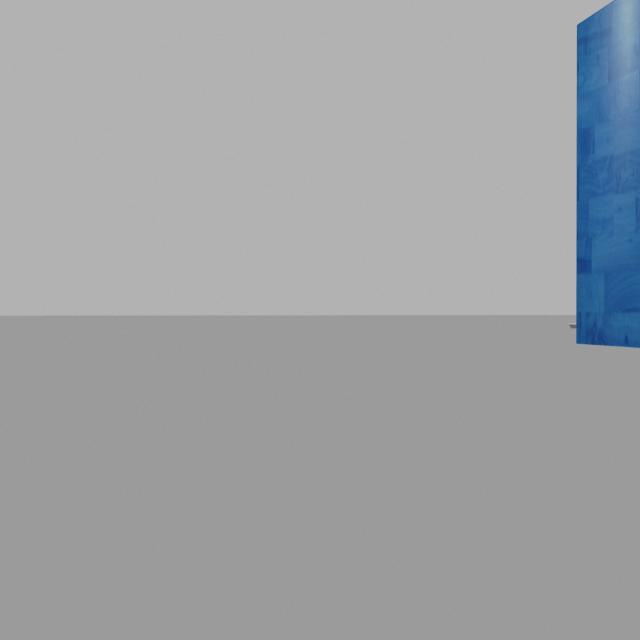bowl: (566, 321, 582, 334)
shelf: (573, 3, 640, 356)
